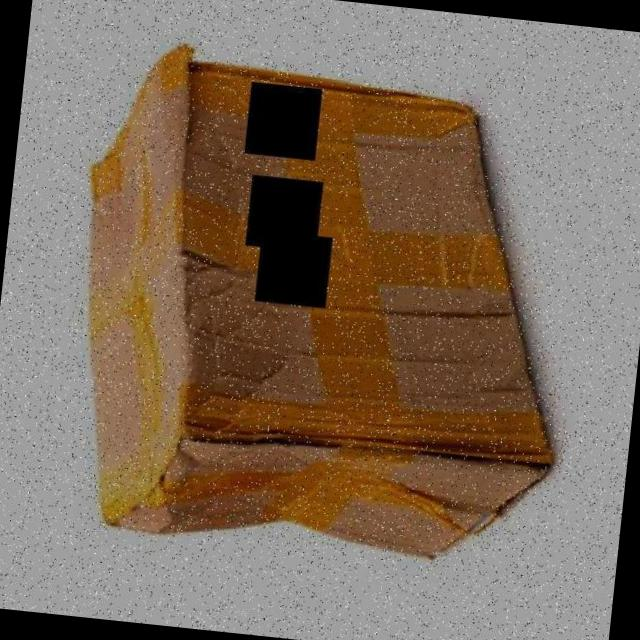box: (48, 42, 598, 580)
